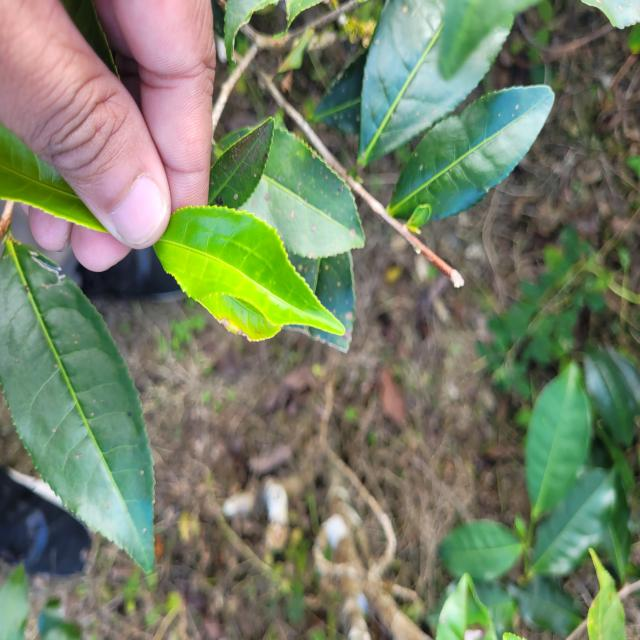Category B(2-4 days): (140, 178, 354, 362)
